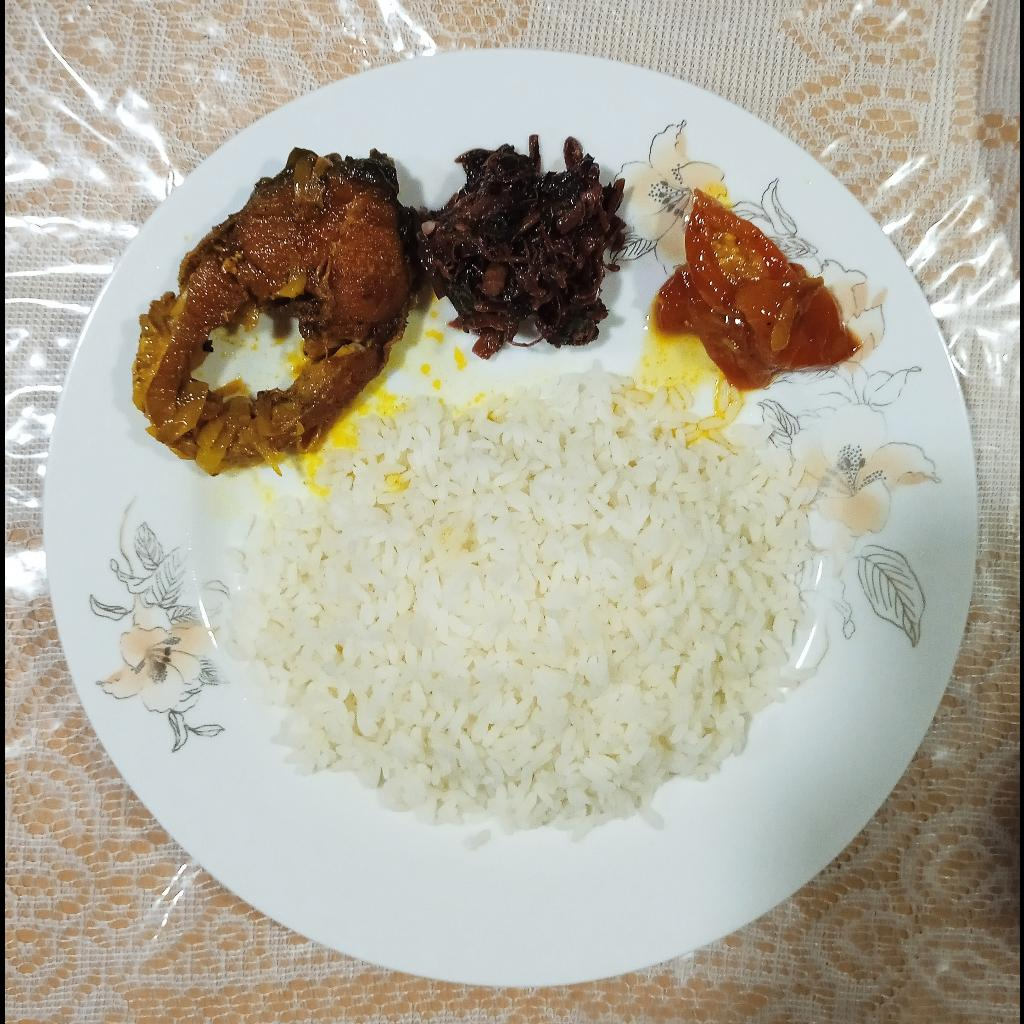fish: (131, 145, 422, 478)
rice: (224, 359, 813, 857)
shak: (406, 136, 628, 360)
tomato: (651, 191, 865, 391)
